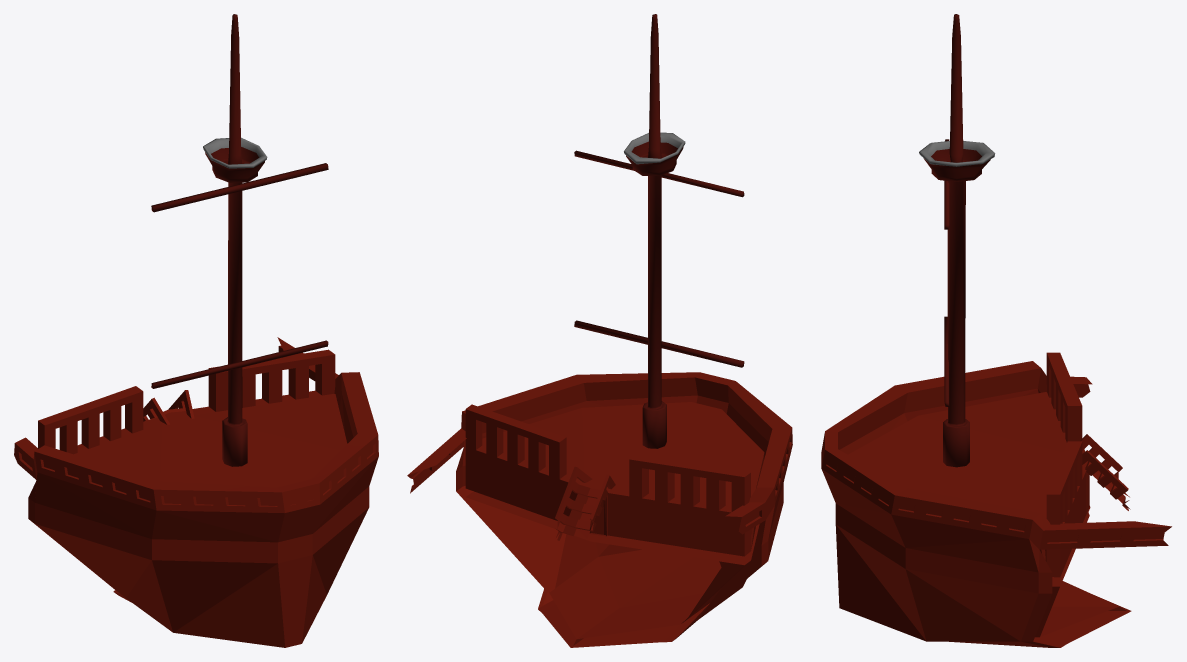
Rendered from ship_piece3.obj.
The picture shows the model from 3 angles, left to right: view 1: azimuth 30°, elevation 25°; view 2: azimuth 150°, elevation 25°; view 3: azimuth 270°, elevation 25°; orthographic projection. The views are drawn at different scales.
Parts seen in each view (by area): view 1: Cube.003; view 2: Cube.003; view 3: Cube.003.
Boxes of the visible parts, bbox=[...] form: Cube.003: bbox=[14, 14, 378, 647]; Cube.003: bbox=[407, 14, 792, 647]; Cube.003: bbox=[821, 14, 1171, 647].
Size of the model in its own units: 1.93 by 3.4 by 1.8.
